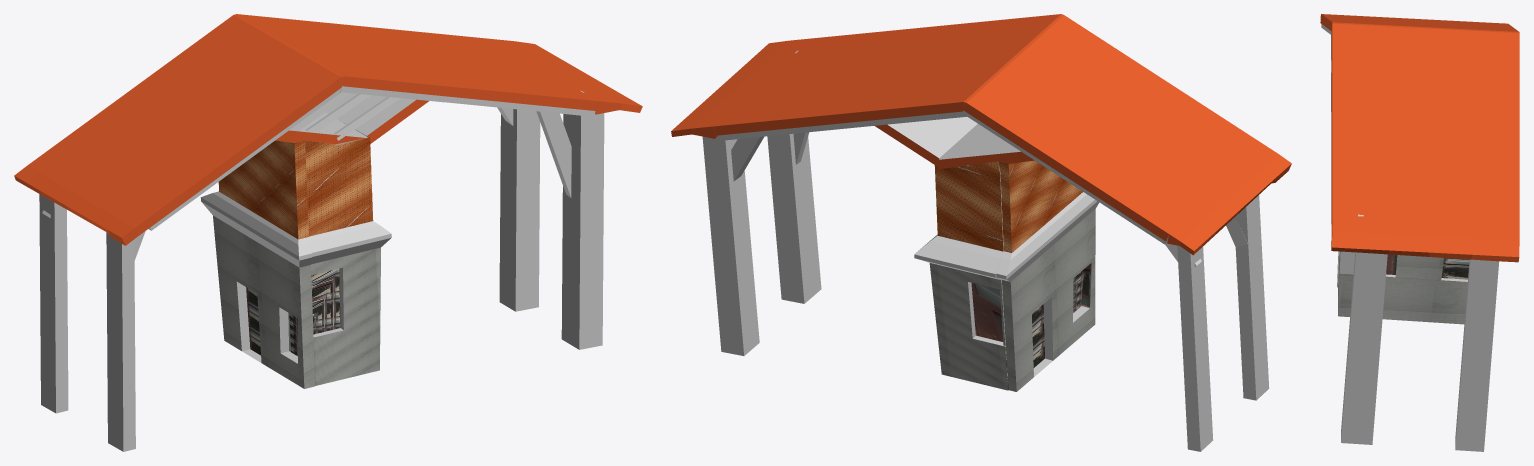
File: gate1.fbx
3 views of the same model, side by side, from view 1: azimuth 30°, elevation 25°; view 2: azimuth 150°, elevation 25°; view 3: azimuth 270°, elevation 25° (orthographic). The views are drawn at different scales.
Parts seen in each view (by area): view 1: Cube; view 2: Cube; view 3: Cube.
Boxes of the visible parts, x1,y1,x2,y2 form: Cube: (14, 14, 642, 451); Cube: (671, 14, 1291, 451); Cube: (1320, 14, 1519, 451).
Bounding box in the file's own units: 2788 × 1740 × 1004.
